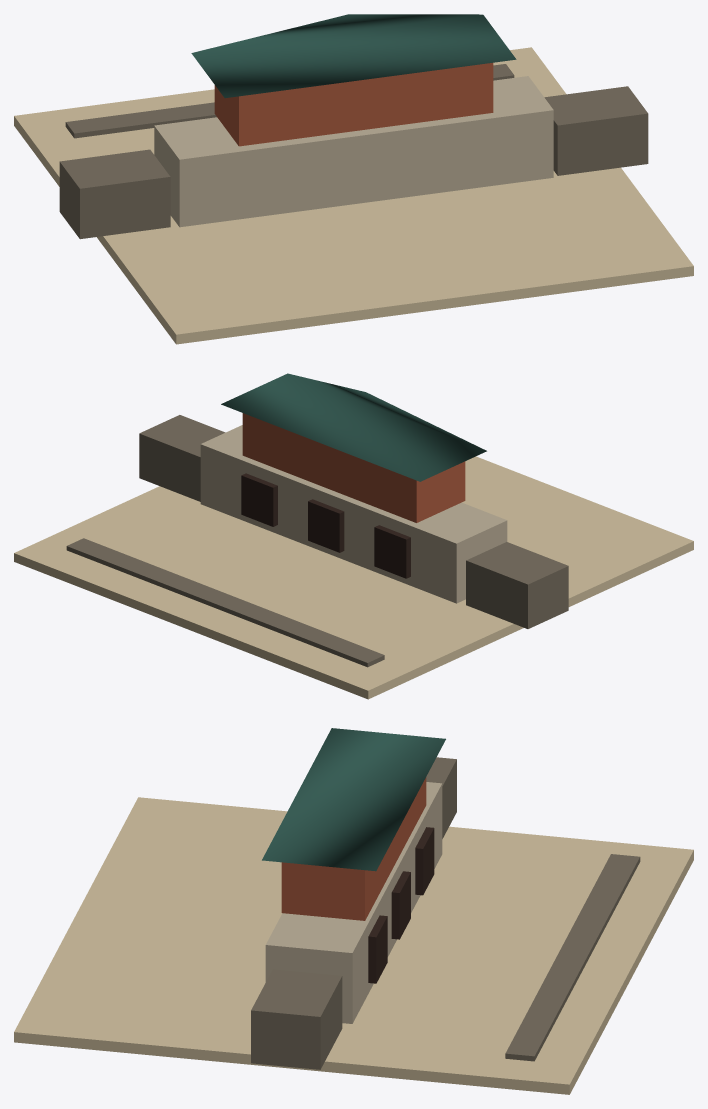
The model's file is model-medium.glb.
The picture shows the model from 3 angles, top to bottom: view 1: azimuth 30°, elevation 25°; view 2: azimuth 150°, elevation 25°; view 3: azimuth 270°, elevation 25°; orthographic projection. The views are drawn at different scales.
Parts seen in each view (by area): view 1: context_site_plinth, city_gate_platform, gatehouse_roof, side_wall_segment (×2), upper_gatehouse_body, front_scale_strip; view 2: context_site_plinth, city_gate_platform, gatehouse_roof, side_wall_segment (×2), upper_gatehouse_body, front_scale_strip, arched_gate_opening (×3); view 3: context_site_plinth, gatehouse_roof, city_gate_platform, side_wall_segment (×2), front_scale_strip, upper_gatehouse_body, arched_gate_opening (×3).
Part boxes in pixels (x1,y1,x2,y2): context_site_plinth: (14, 47, 693, 344); city_gate_platform: (154, 76, 553, 227); gatehouse_roof: (191, 14, 516, 98); side_wall_segment (×2): (59, 86, 648, 239); upper_gatehouse_body: (214, 63, 493, 146); front_scale_strip: (65, 64, 514, 138); context_site_plinth: (14, 456, 693, 699); city_gate_platform: (200, 425, 507, 603); gatehouse_roof: (221, 373, 486, 481); side_wall_segment (×2): (139, 415, 568, 628); upper_gatehouse_body: (242, 413, 465, 522); front_scale_strip: (66, 538, 384, 667); arched_gate_opening (×3): (241, 473, 410, 578); context_site_plinth: (14, 797, 693, 1094); gatehouse_roof: (262, 728, 445, 871); city_gate_platform: (265, 782, 442, 1023); side_wall_segment (×2): (251, 757, 456, 1069); front_scale_strip: (505, 854, 640, 1061); upper_gatehouse_body: (281, 777, 426, 920); arched_gate_opening (×3): (368, 827, 434, 983).
Bounding box in the file's own units: 9.55 × 2.9 × 9.55.
